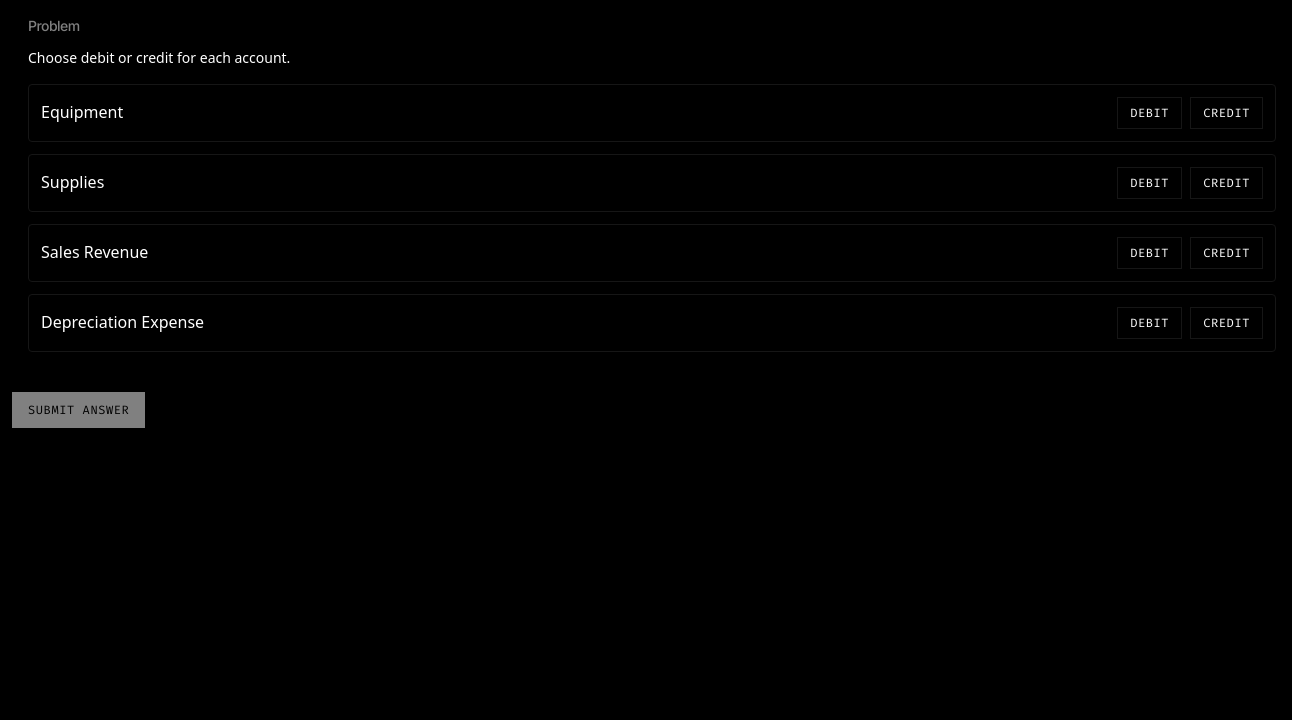
it: NormalBalanceInput › submits an incorrect answer and shows per-account results
Click the button "Credit" in the row of "Equipment" at [1227, 113], box [1190, 97, 1263, 129]
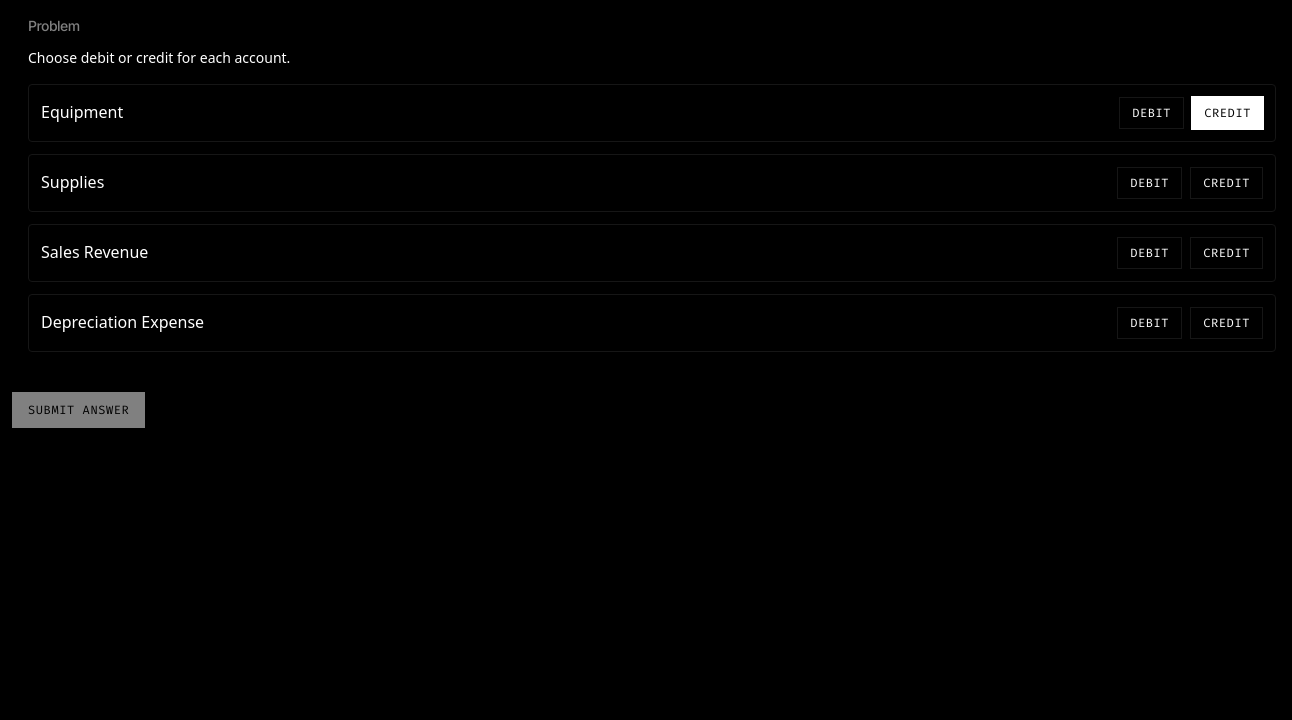
Click the button "Credit" in the row of "Supplies" at [1227, 183], box [1190, 167, 1263, 199]
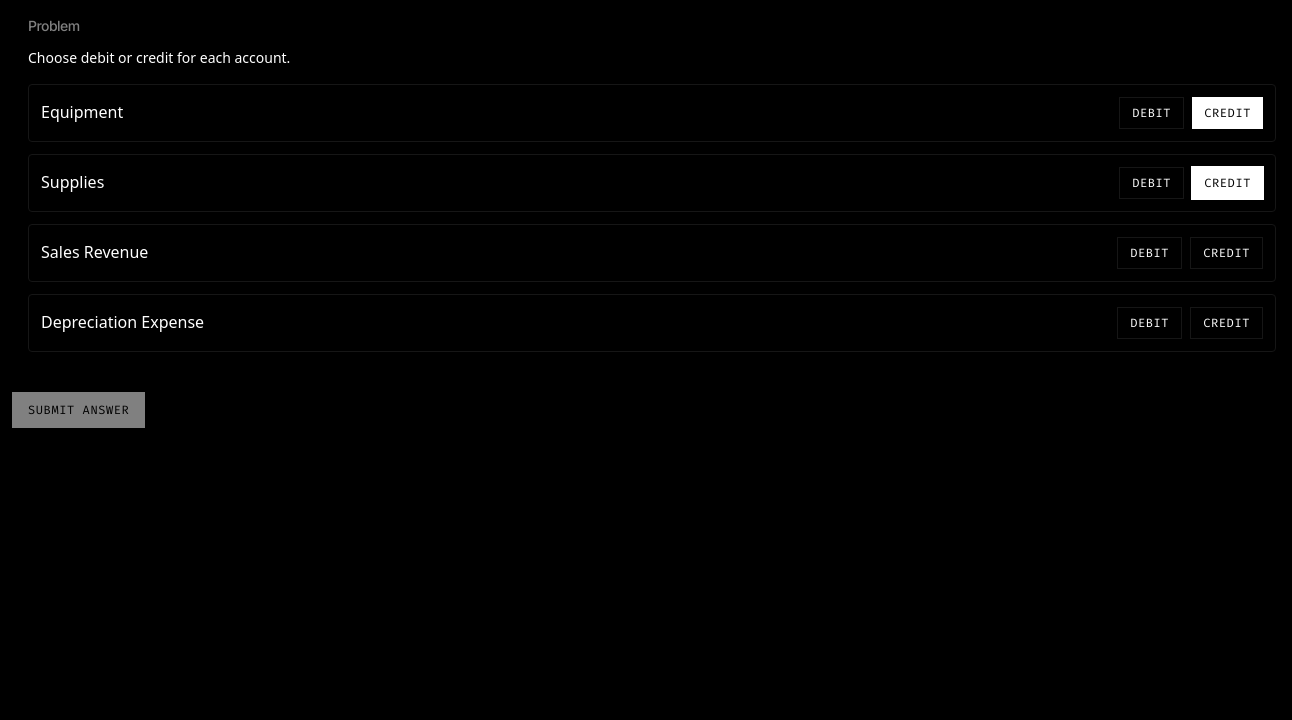
Click the button "Debit" in the row of "Sales Revenue" at [1150, 253], box [1117, 237, 1182, 269]
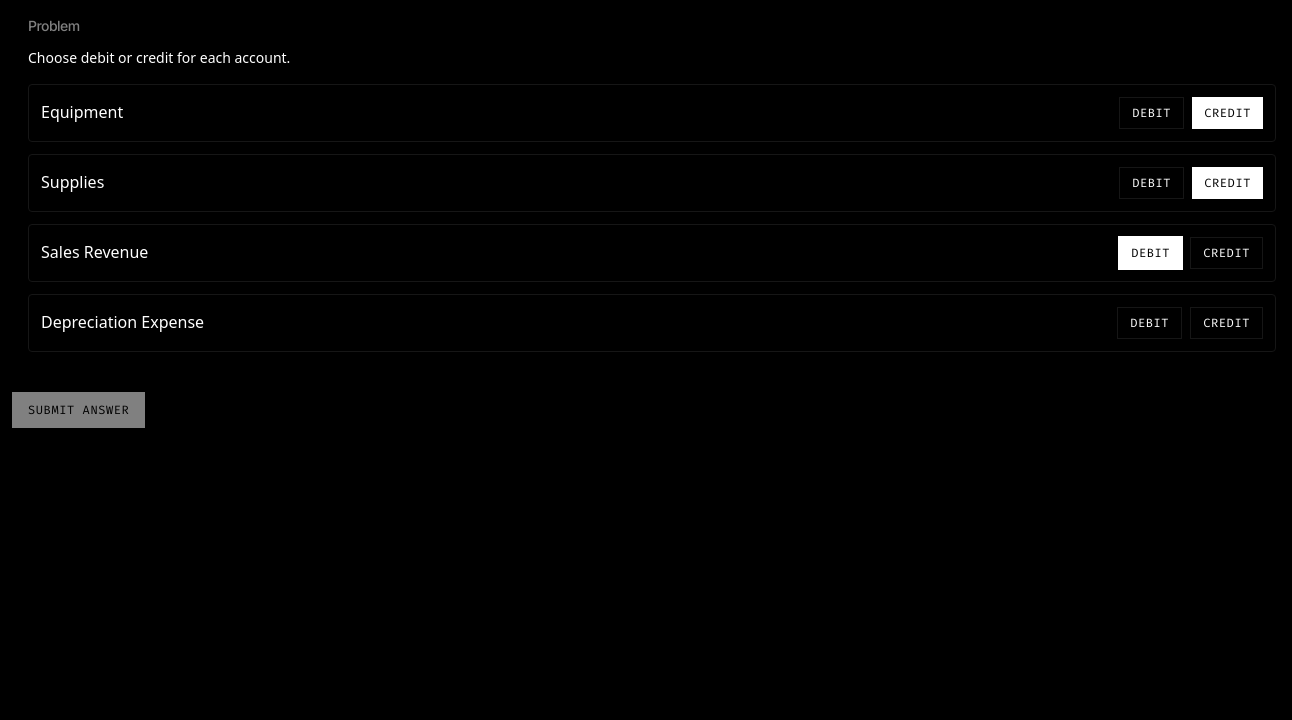
Click the button "Credit" in the row of "Depreciation Expense" at [1227, 323], box [1190, 307, 1263, 339]
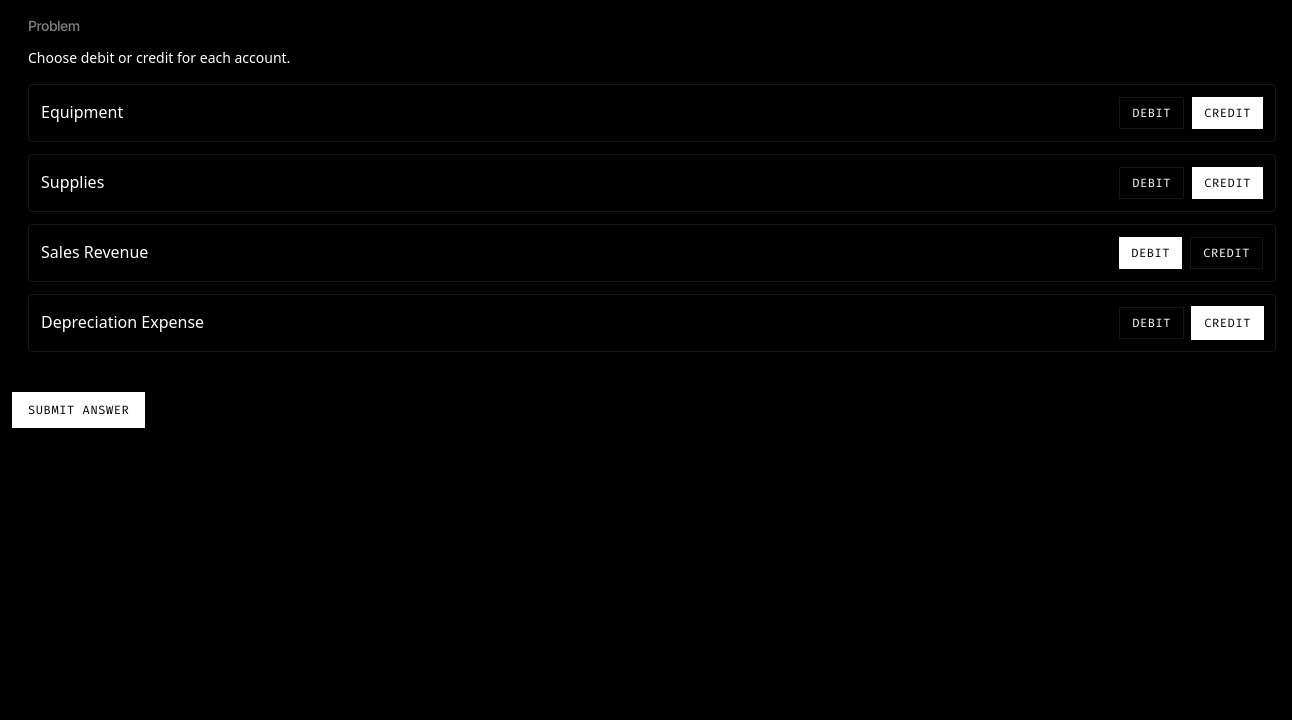
Click the button "Submit Answer" at [79, 410], box [12, 392, 145, 428]
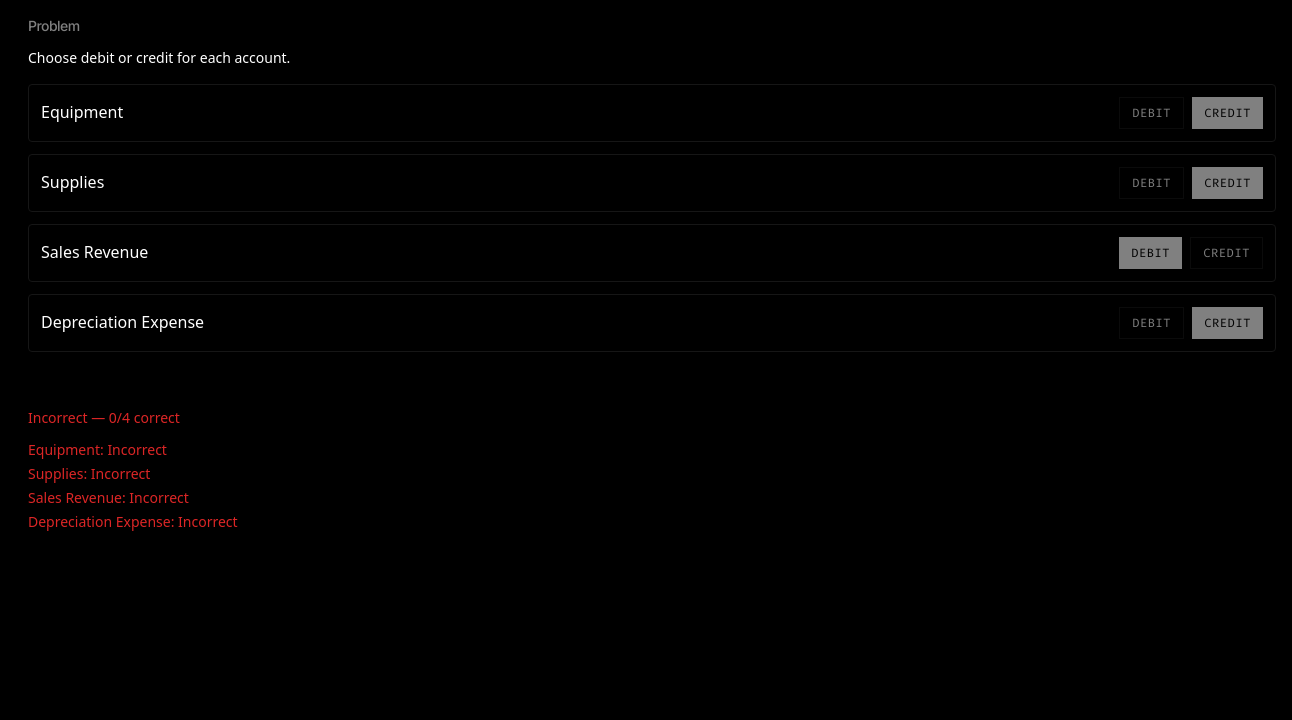
Now the text "Incorrect — 0/4 correct" is shown, box [28, 408, 180, 427]
